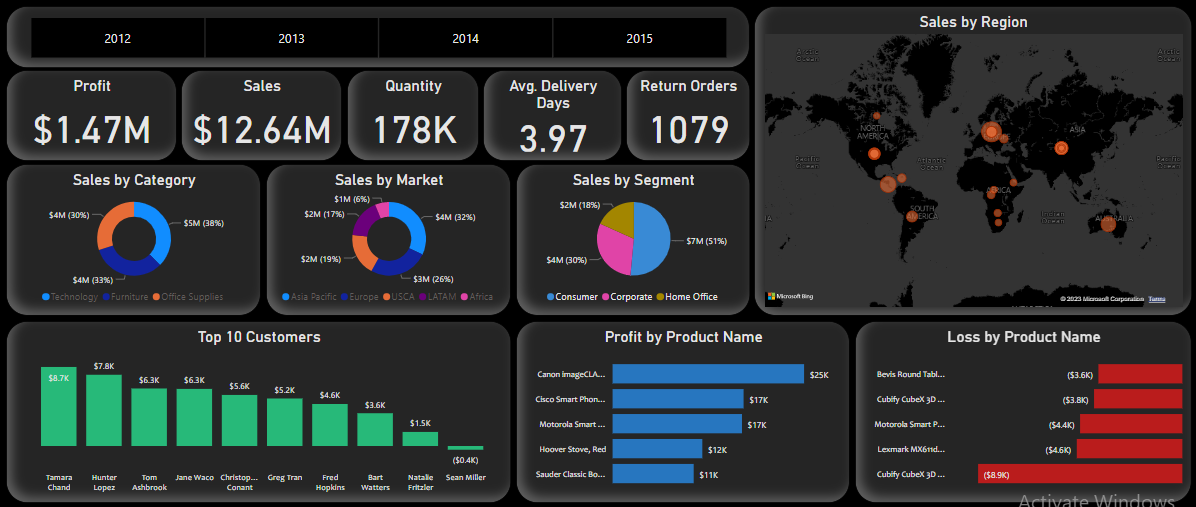

The page's visual inventory and layout, read from the dashboard file:
{"tool":"powerbi","page":{"name":"Page 1","canvas":[1700,720],"ordinal":0},"visuals":[{"type":"card","title":"Sales","fields":{"Values":["Orders.Sales"]},"box":[258,99.2,228.2,129],"z":0},{"type":"card","title":"Quantity","fields":{"Values":["Orders.Quantity"]},"box":[493.2,99.2,187.1,129],"z":1000},{"type":"card","title":"Avg. Delivery Days","fields":{"Values":["Orders.Delivery Days"]},"box":[686,99.2,197,129],"z":2000},{"type":"slicer","fields":{"Values":["Orders.Year"]},"box":[9.9,8.5,1054.5,87.9],"z":3000},{"type":"card","title":"Return Orders","fields":{"Values":["Returns.Return Orders"]},"box":[888.7,99.2,175.7,129],"z":4000},{"type":"map","title":"Sales by Region","fields":{"Category":["Orders.Region"],"Size":["Orders.Sales"]},"box":[1070.1,8.5,620.8,439.4],"z":5000},{"type":"barChart","title":"Profit by Product Name","fields":{"Category":["Orders.Product Name"],"Y":["Orders.Profit"]},"box":[732.8,455,473.4,258],"z":6000},{"type":"barChart","title":"Loss by Product Name","fields":{"Category":["Orders.Product Name"],"Y":["Orders.Profit"]},"box":[1213.8,455.2,477.1,257.7],"z":7000},{"type":"pieChart","title":"Sales by Segment","fields":{"Category":["Orders.Segment"],"Y":["Orders.Sales"]},"box":[732.8,232.4,331.7,215.4],"z":8000},{"type":"donutChart","title":"Sales by Market","fields":{"Y":["Orders.Sales"],"Category":["Orders.Market"]},"box":[378.4,232.4,347.2,215.4],"z":9000},{"type":"columnChart","title":"Top 10 Customers","fields":{"Y":["Orders.Profit"],"Category":["Orders.Customer Name"]},"box":[9.9,455,715.7,258],"z":10000},{"type":"donutChart","title":"Sales by Category","fields":{"Y":["Orders.Sales"],"Category":["Orders.Category"]},"box":[9.9,232.4,361.4,215.4],"z":10001},{"type":"card","title":"Profit","fields":{"Values":["Orders.Profit"]},"box":[9.9,99.2,242.4,129],"z":10002}]}

Visuals, with their boxes in screenshot pixels (x1, y1, x2, y2), scaled from the page's 1700x720 canvas onto the 1196x507 screenshot:
"Sales" card: pyautogui.locateOnScreen(182, 70, 342, 161)
"Quantity" card: pyautogui.locateOnScreen(347, 70, 479, 161)
"Avg. Delivery Days" card: pyautogui.locateOnScreen(483, 70, 621, 161)
slicer - Orders.Year: pyautogui.locateOnScreen(7, 6, 749, 68)
"Return Orders" card: pyautogui.locateOnScreen(625, 70, 749, 161)
"Sales by Region" map: pyautogui.locateOnScreen(753, 6, 1190, 315)
"Profit by Product Name" barChart: pyautogui.locateOnScreen(516, 320, 849, 502)
"Loss by Product Name" barChart: pyautogui.locateOnScreen(854, 321, 1190, 502)
"Sales by Segment" pieChart: pyautogui.locateOnScreen(516, 164, 749, 315)
"Sales by Market" donutChart: pyautogui.locateOnScreen(266, 164, 510, 315)
"Top 10 Customers" columnChart: pyautogui.locateOnScreen(7, 320, 510, 502)
"Sales by Category" donutChart: pyautogui.locateOnScreen(7, 164, 261, 315)
"Profit" card: pyautogui.locateOnScreen(7, 70, 178, 161)
